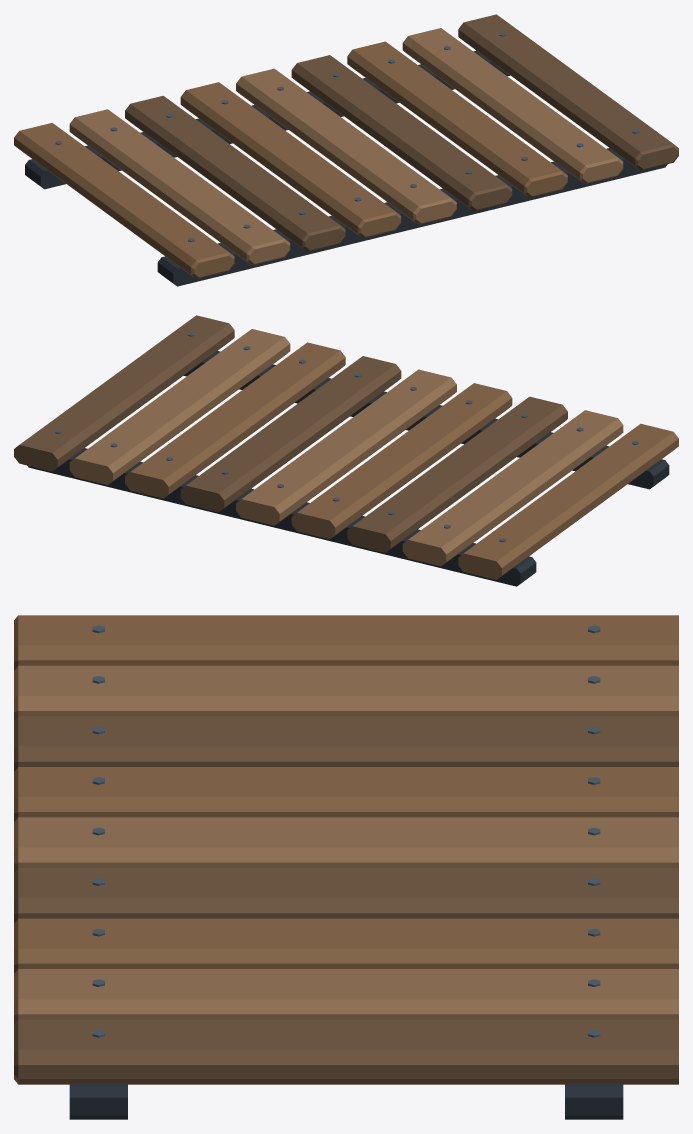
File: W-04_duckboard.glb
The picture shows the model from 3 angles, top to bottom: view 1: azimuth 30°, elevation 25°; view 2: azimuth 150°, elevation 25°; view 3: azimuth 270°, elevation 25°; orthographic projection. The views are drawn at different scales.
Visible parts, largest first — view 1: W-04_duckboard; view 2: W-04_duckboard; view 3: W-04_duckboard.
Part boxes in pixels (<box>): W-04_duckboard: <box>14,14,678,286</box>; W-04_duckboard: <box>14,315,678,586</box>; W-04_duckboard: <box>14,615,678,1119</box>.
Size of the model in its own units: 0.75 by 0.052 by 0.467.
